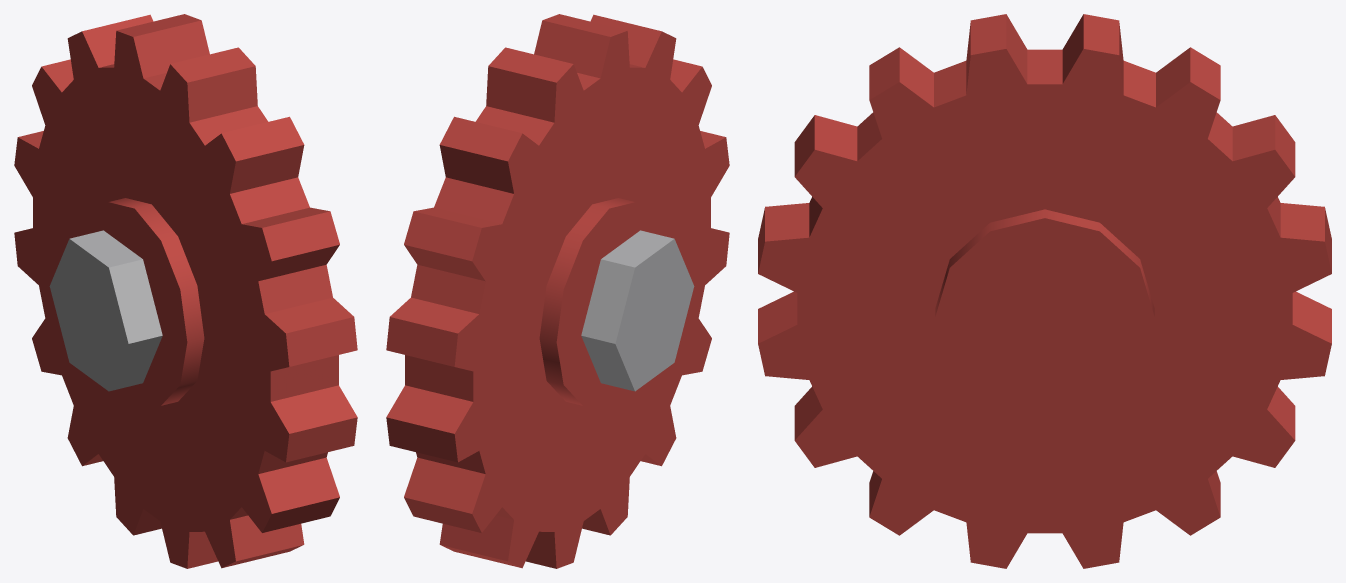
File: front_16.glb
3 renders of one model, left to right at view 1: azimuth 30°, elevation 25°; view 2: azimuth 150°, elevation 25°; view 3: azimuth 270°, elevation 25°, orthographic. The views are drawn at different scales.
Visible parts, largest first — view 1: lod0; view 2: lod0; view 3: lod0.
Part boxes in pixels (x1=…): lod0: x1=14, y1=14, x2=357, y2=568; lod0: x1=386, y1=14, x2=729, y2=568; lod0: x1=758, y1=14, x2=1331, y2=568.
Size of what is drawn, in the model's own units: 0.026 by 0.0836 by 0.0836.
